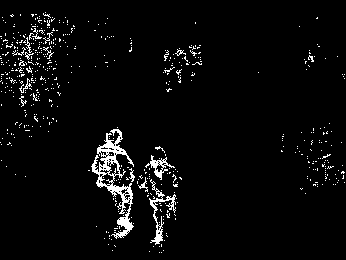person: (92, 124, 137, 241), (140, 140, 184, 249)
